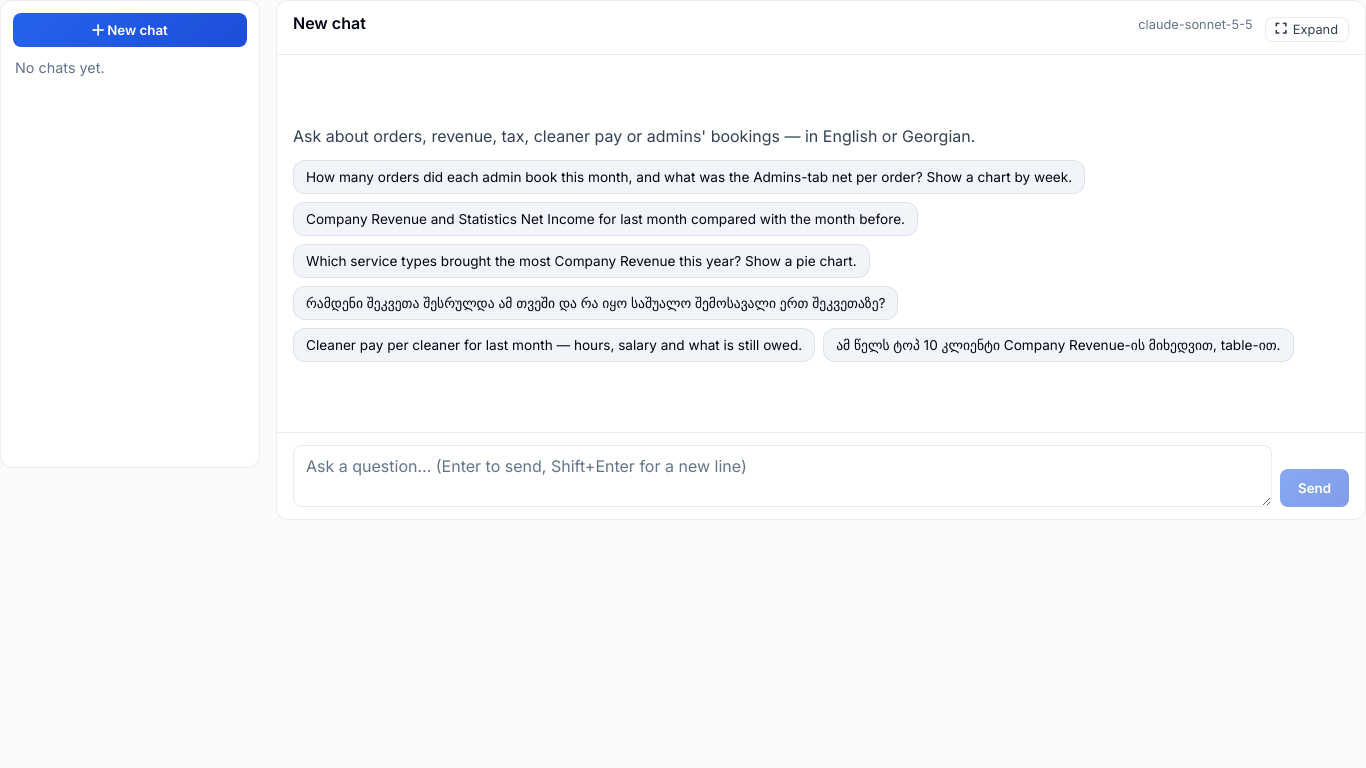
Scenario: AnalyticsAgentComponent › expanded view › covers the page from the Expand button and locks the page scroll behind it
Click the button with class "agent-expand-btn". click: (1307, 30)
box: [1265,17,1349,42]
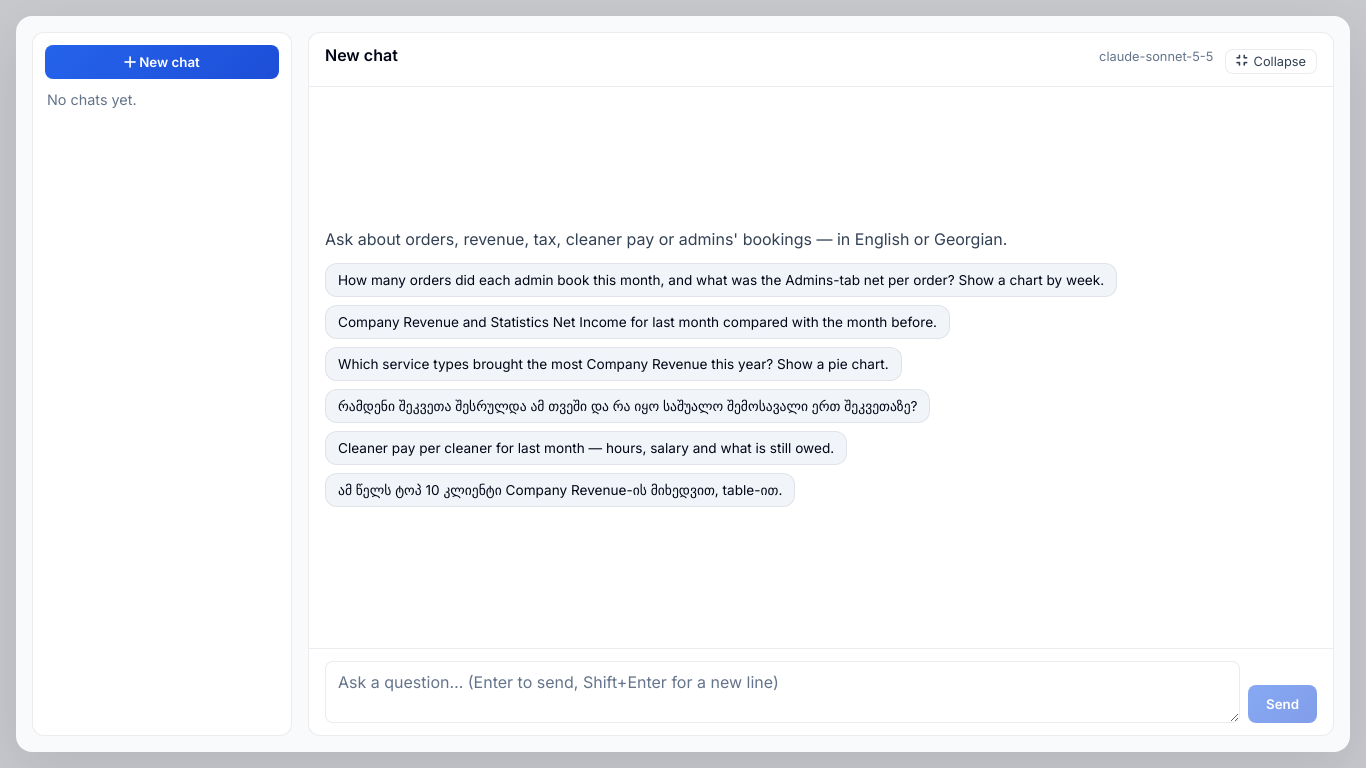
Check: the element with class "agent-backdrop" is shown
